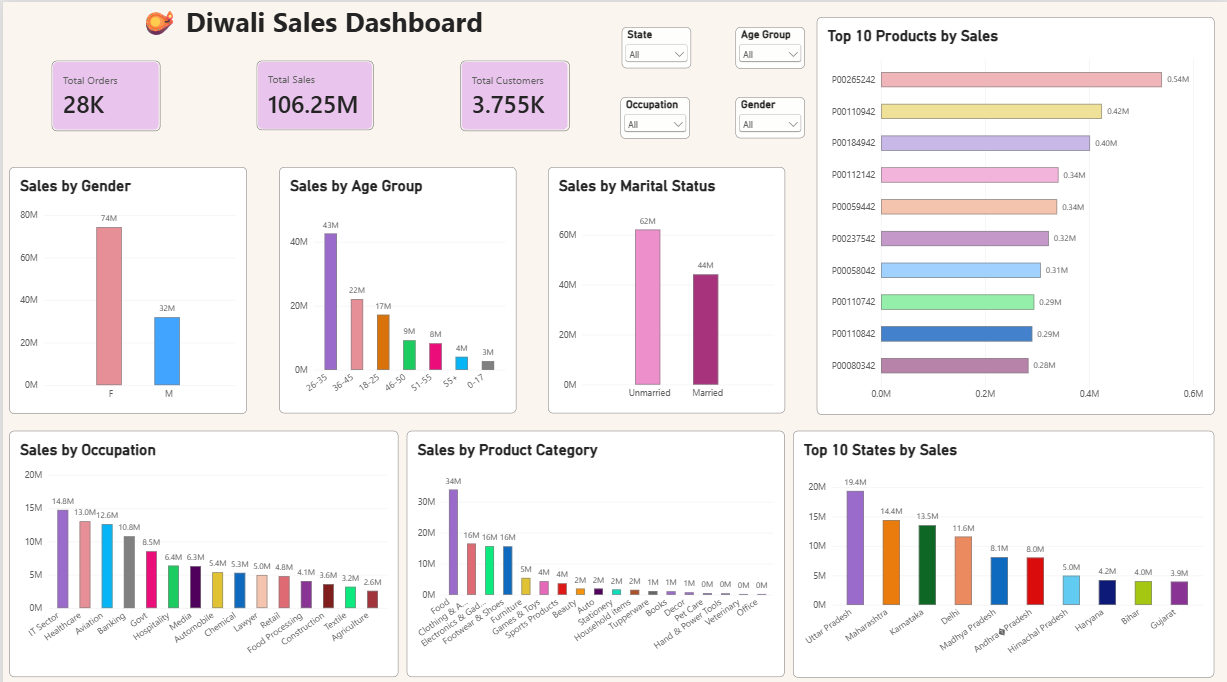

This screenshot's page, from the dashboard's own definition file:
{"tool":"powerbi","page":{"name":"Page 1","canvas":[1920,1080],"ordinal":0},"visuals":[{"type":"cardVisual","fields":{"Data":["Sum(Diwali Sales Data.Amount)"]},"box":[397.3,92.6,183.2,109.1],"z":0},{"type":"cardVisual","fields":{"Data":["Sum(Diwali Sales Data.Orders)"]},"box":[76.2,92.6,170,110],"z":1000},{"type":"cardVisual","fields":{"Data":["Count(Diwali Sales Data.User_ID)"]},"box":[718.4,92.6,170.8,110],"z":2000},{"type":"clusteredColumnChart","title":"Sales by Gender","fields":{"Category":["Diwali Sales Data.Gender"],"Y":["Sum(Diwali Sales Data.Amount)"]},"box":[10.3,259.3,372.6,387],"z":3000},{"type":"clusteredColumnChart","title":"Sales by Age Group","fields":{"Category":["Diwali Sales Data.Age Group"],"Y":["Sum(Diwali Sales Data.Amount)"]},"box":[432.6,259.3,372,386],"z":4000},{"type":"clusteredColumnChart","title":"Top 10 States by Sales","fields":{"Category":["Diwali Sales Data.State"],"Y":["Sum(Diwali Sales Data.Amount)"]},"box":[1239.1,673.1,660.7,387],"z":5000},{"type":"clusteredColumnChart","title":"Sales by Product Category","fields":{"Category":["Diwali Sales Data.Product_Category"],"Y":["Sum(Diwali Sales Data.Amount)"]},"box":[633.3,673.1,592.8,386],"z":6000},{"type":"clusteredColumnChart","title":"Sales by Occupation","fields":{"Category":["Diwali Sales Data.Occupation"],"Y":["Sum(Diwali Sales Data.Amount)"]},"box":[10.3,673.1,610,386],"z":7000},{"type":"clusteredColumnChart","title":"Sales by Marital Status","fields":{"Category":["Diwali Sales Data.Marital Status Label"],"Y":["Sum(Diwali Sales Data.Amount)"]},"box":[854.4,259.3,372,386],"z":8000},{"type":"clusteredBarChart","title":"Top 10 Products by Sales","fields":{"Category":["Diwali Sales Data.Product_ID"],"Y":["Sum(Diwali Sales Data.Amount)"]},"box":[1276.2,22.6,623.7,623.7],"z":9000},{"type":"textbox","box":[0,0,969.5,72],"z":10000},{"type":"slicer","fields":{"Values":["Diwali Sales Data.Gender"]},"box":[1148.5,148.2,109.1,65],"z":11000},{"type":"slicer","fields":{"Values":["Diwali Sales Data.Age Group"]},"box":[1148.5,39.1,109.1,65.9],"z":12000},{"type":"slicer","fields":{"Values":["Diwali Sales Data.State"]},"box":[971.5,39.1,109,65],"z":13000},{"type":"slicer","fields":{"Values":["Diwali Sales Data.Occupation"]},"box":[969.5,148.2,109.1,65.9],"z":14000}]}

Visuals, with their boxes in screenshot pixels (x1, y1, x2, y2), scaled from the page's 1920x1080 canvas onto the 1227x682 screenshot:
cardVisual - Sum(Diwali Sales Data.Amount): pyautogui.locateOnScreen(254, 58, 371, 127)
cardVisual - Sum(Diwali Sales Data.Orders): pyautogui.locateOnScreen(49, 58, 157, 128)
cardVisual - Count(Diwali Sales Data.User_ID): pyautogui.locateOnScreen(459, 58, 568, 128)
"Sales by Gender" clusteredColumnChart: pyautogui.locateOnScreen(7, 164, 245, 408)
"Sales by Age Group" clusteredColumnChart: pyautogui.locateOnScreen(276, 164, 514, 407)
"Top 10 States by Sales" clusteredColumnChart: pyautogui.locateOnScreen(792, 425, 1214, 669)
"Sales by Product Category" clusteredColumnChart: pyautogui.locateOnScreen(405, 425, 784, 669)
"Sales by Occupation" clusteredColumnChart: pyautogui.locateOnScreen(7, 425, 396, 669)
"Sales by Marital Status" clusteredColumnChart: pyautogui.locateOnScreen(546, 164, 784, 407)
"Top 10 Products by Sales" clusteredBarChart: pyautogui.locateOnScreen(816, 14, 1214, 408)
textbox: pyautogui.locateOnScreen(0, 0, 620, 45)
slicer - Diwali Sales Data.Gender: pyautogui.locateOnScreen(734, 94, 804, 135)
slicer - Diwali Sales Data.Age Group: pyautogui.locateOnScreen(734, 25, 804, 66)
slicer - Diwali Sales Data.State: pyautogui.locateOnScreen(621, 25, 691, 66)
slicer - Diwali Sales Data.Occupation: pyautogui.locateOnScreen(620, 94, 689, 135)
